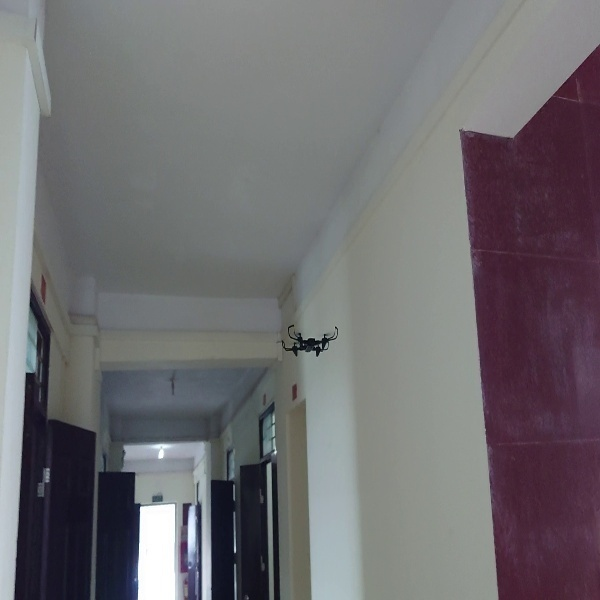drone: (276, 321, 341, 360)
